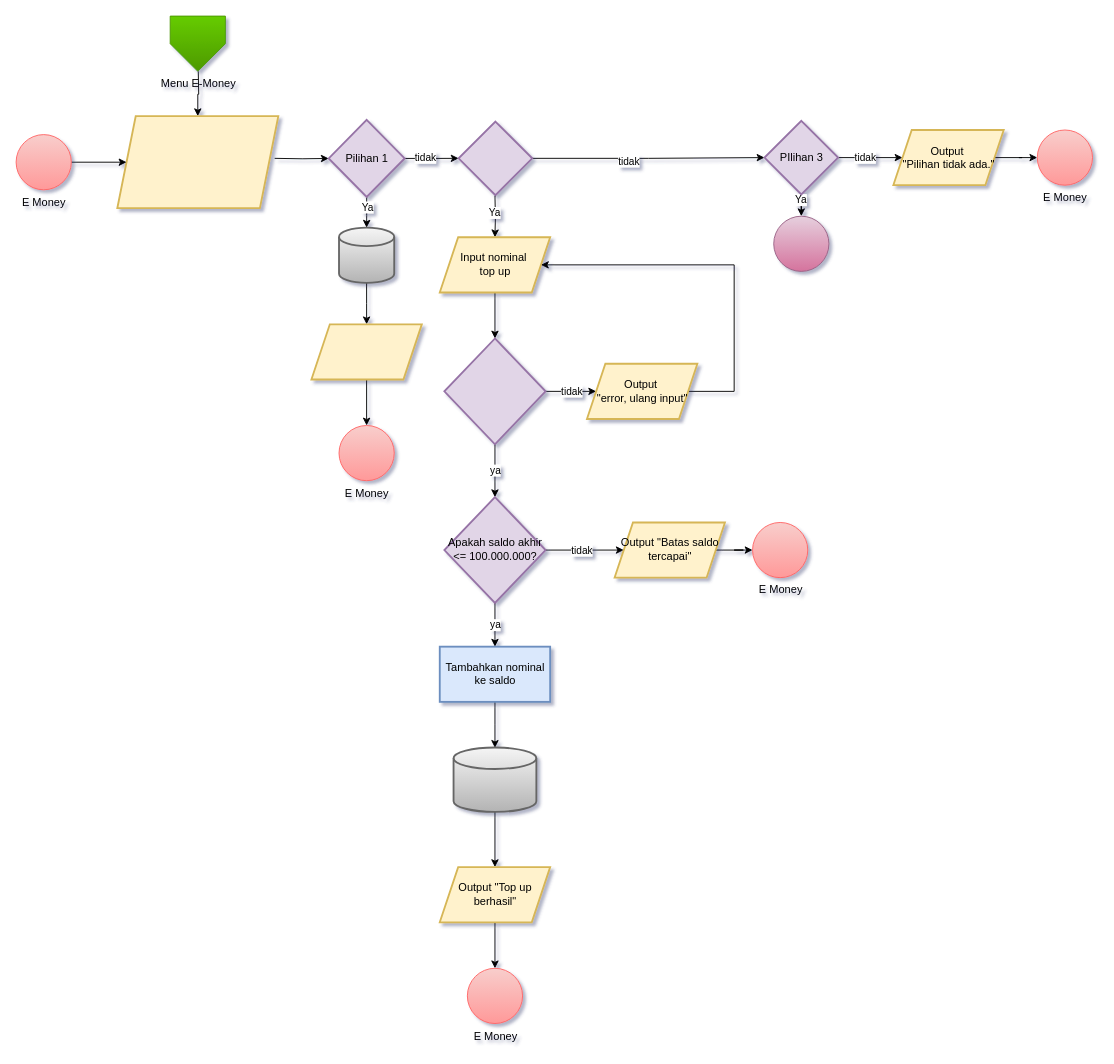
The diagram is 1114 pixels wide and 1064 high, and some of its shapes have lost their labels. Each missing label, with the box of its shape:
Apakah nominal valid?: (443, 337, 546, 445)
Menu user: (773, 215, 829, 271)
Pilihan 2: (457, 120, 533, 196)
Read Users.json: (338, 226, 395, 283)
Tampilkan manu E-Money 1. Lihat Jumlah E-money 2. Topup E-money 3. Kembali: (116, 115, 279, 209)
Tampilkan saldo: (310, 323, 422, 380)
Update Users.json: (452, 746, 537, 812)
